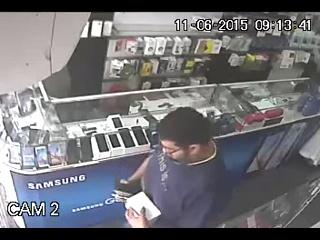shoplifting: (114, 106, 230, 228)
